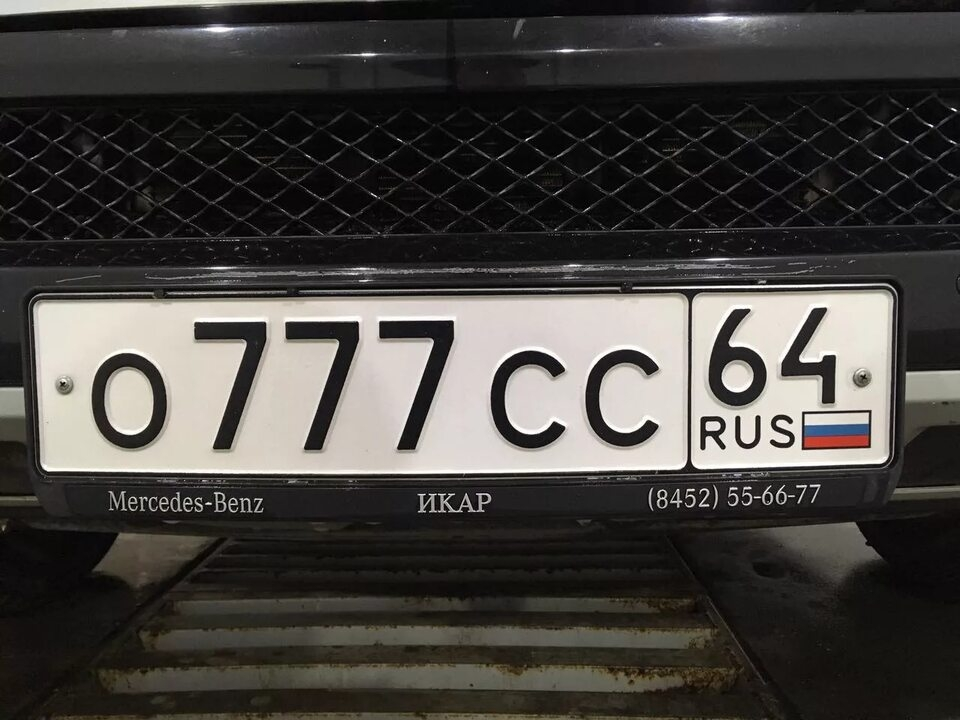number_plate: (31, 289, 900, 470)
